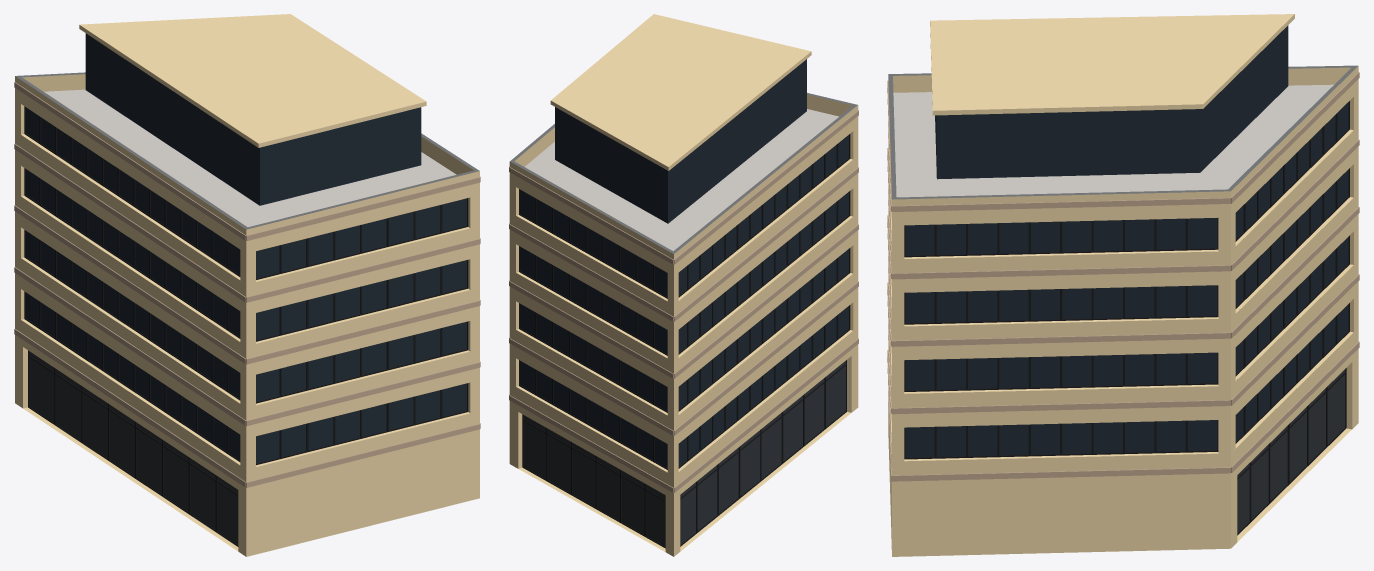
File: office118.glb
3 views of the same model, side by side, from view 1: azimuth 30°, elevation 25°; view 2: azimuth 150°, elevation 25°; view 3: azimuth 270°, elevation 25° (orthographic). The views are drawn at different scales.
Visible parts, largest first — view 1: office118; view 2: office118; view 3: office118.
Part boxes in pixels (<box>): office118: <box>14,14,480,556</box>; office118: <box>509,14,858,556</box>; office118: <box>887,14,1359,556</box>.
Size of the model in its own units: 15.45 by 22.85 by 22.88.
